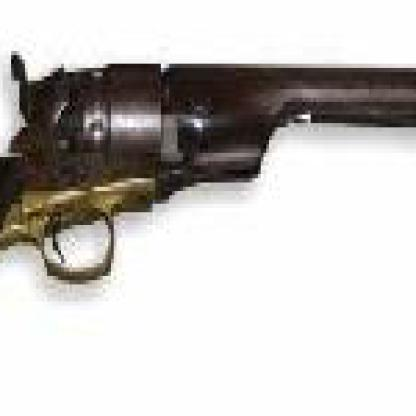gun: (0, 25, 413, 412)
